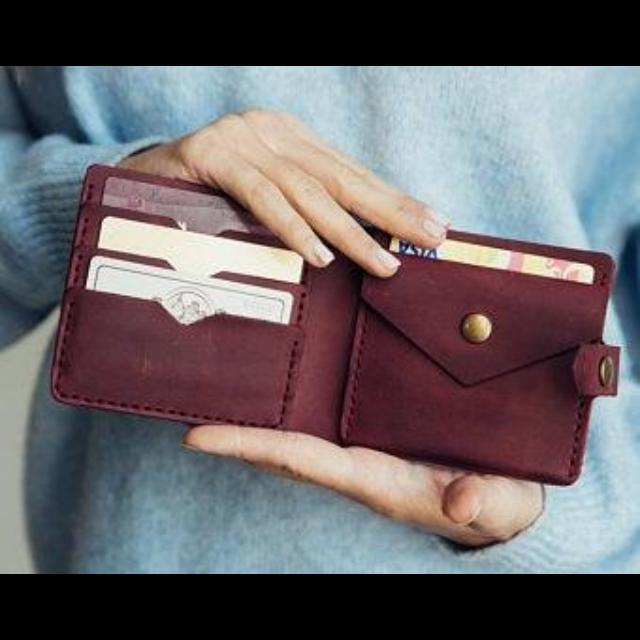Wallet: (52, 164, 620, 483)
